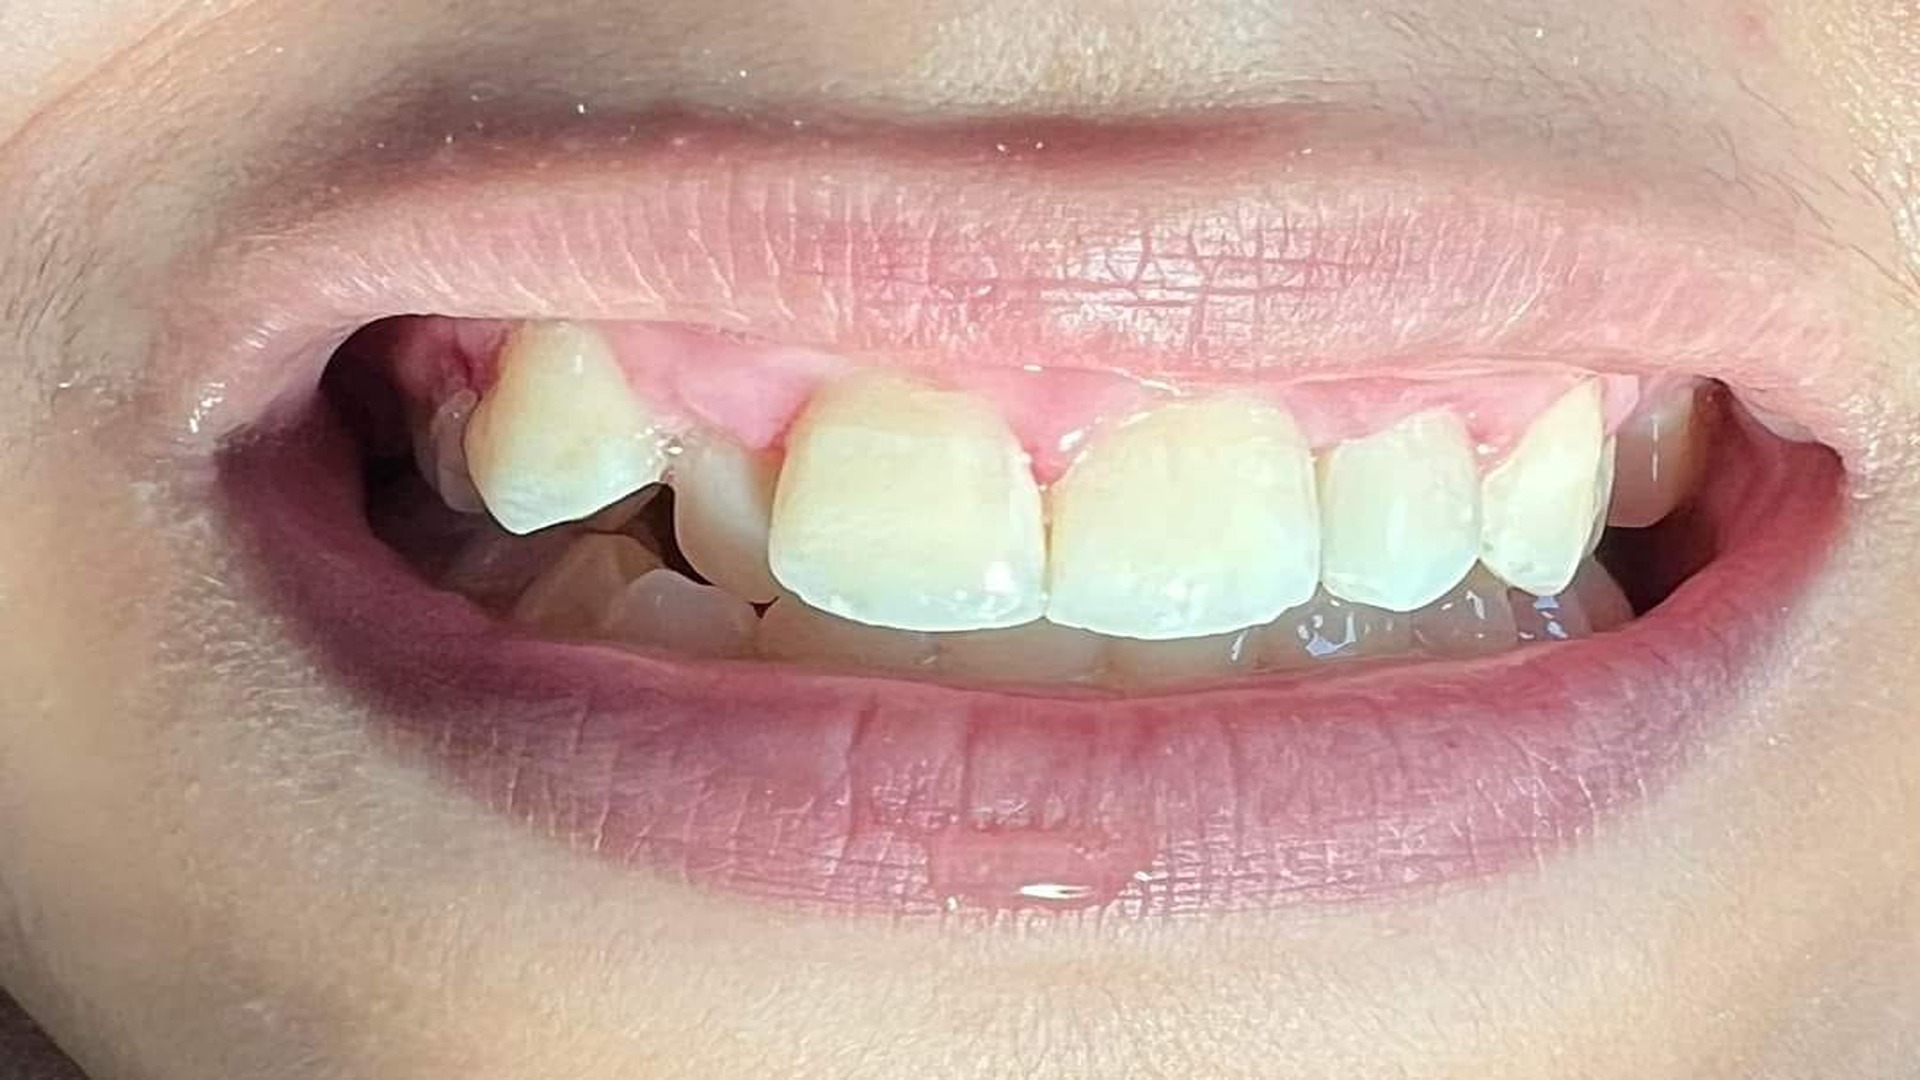tooth: (767, 367, 1046, 630), (1047, 398, 1321, 640), (463, 322, 682, 535), (1317, 410, 1480, 611), (1480, 378, 1614, 596), (665, 444, 783, 603)
